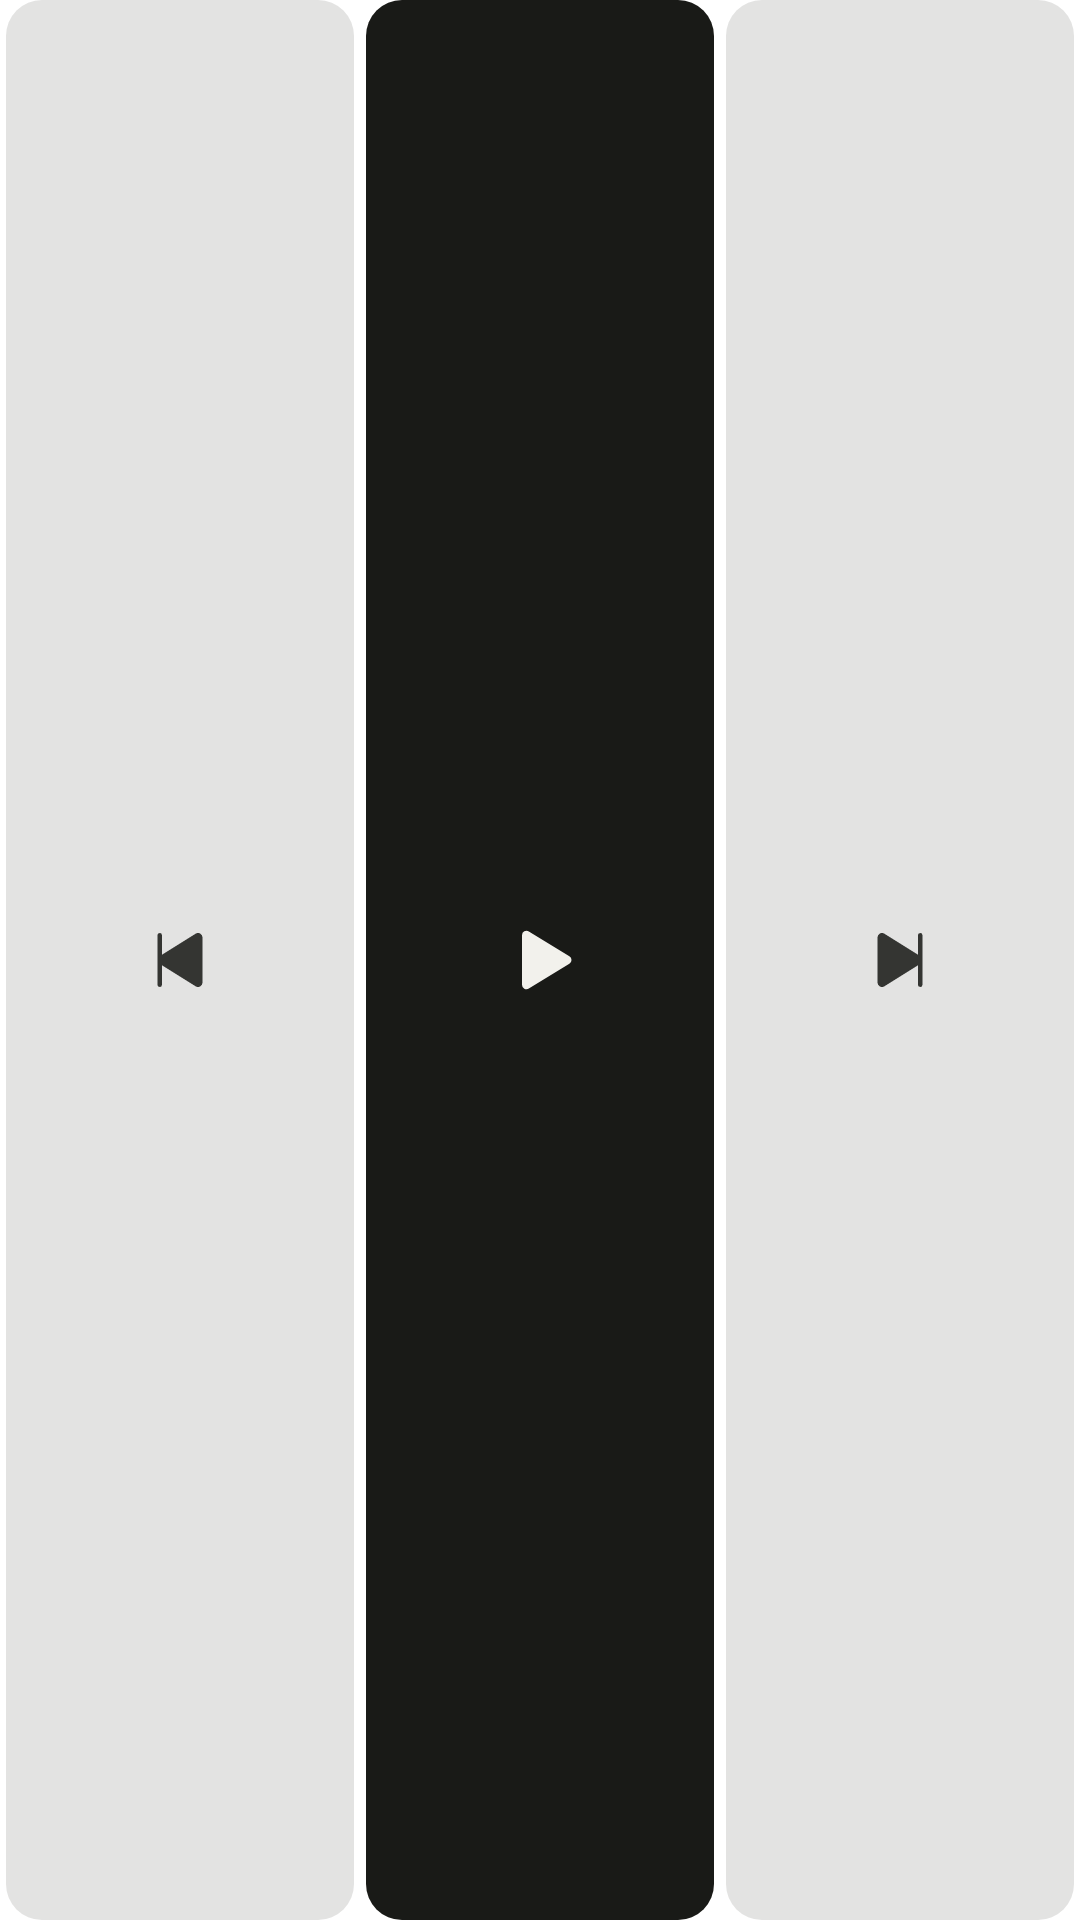

Icon click points for this 1080*1920 phone screenshot, format (x,y):
play: (547,960)
skip next: (900,960)
skip previous: (180,960)
